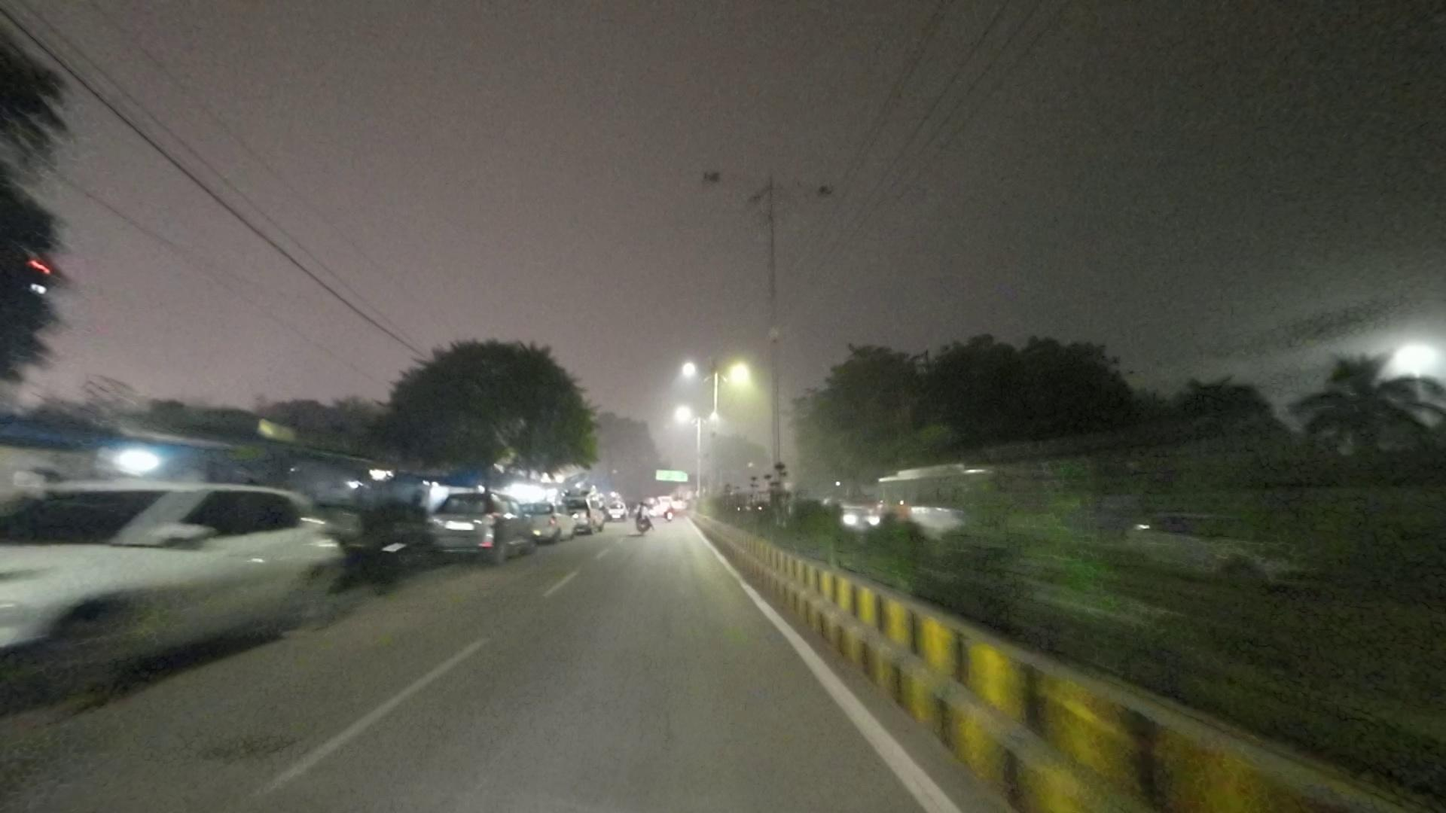streetlight: (699, 168, 767, 193), (776, 179, 840, 199)
